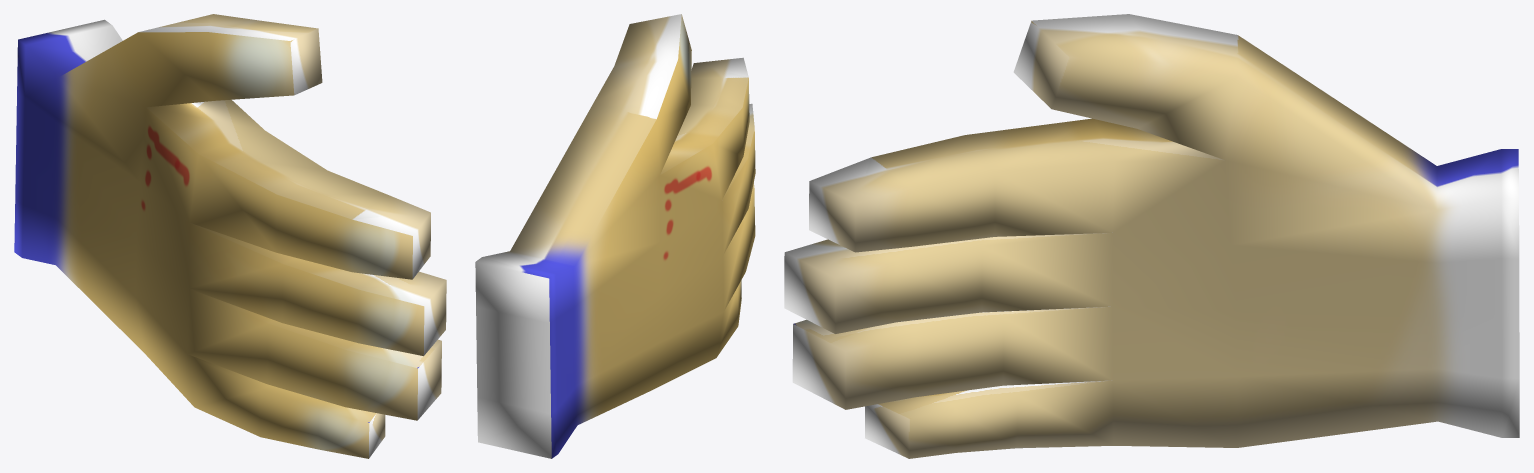
The model's file is handbleading,blend.fbx.
The picture shows the model from 3 angles, left to right: view 1: azimuth 30°, elevation 25°; view 2: azimuth 150°, elevation 25°; view 3: azimuth 270°, elevation 25°; orthographic projection. The views are drawn at different scales.
Visible parts, largest first — view 1: HandR; view 2: HandR; view 3: HandR.
Part boxes in pixels (x1,y1,x2,y2): HandR: [14, 14, 446, 458]; HandR: [475, 14, 755, 458]; HandR: [784, 14, 1519, 458].
Size of the model in its own units: 5.84 by 14.18 by 22.4.
1 material, 1 textured.
